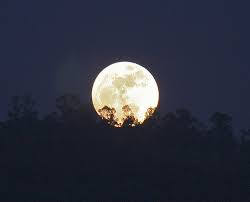moon: (91, 60, 160, 127)
